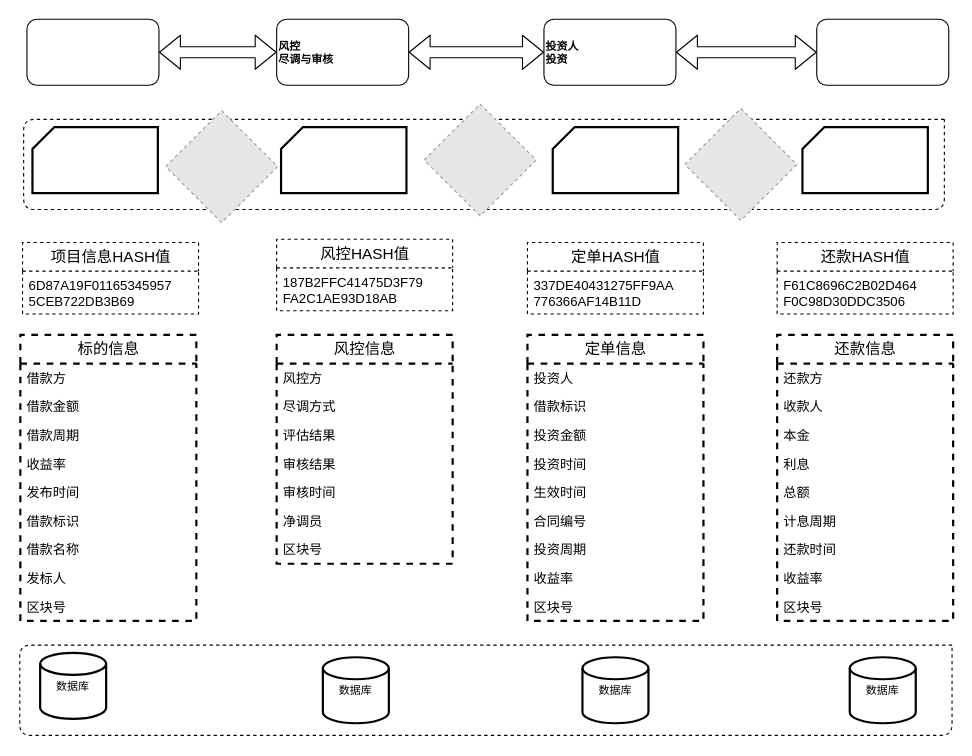
Some shapes in this 972 by 756 pixel diagram are drawn without their labels. Grey dashed boxes stand in for pictures. The centre of each missing label's shape, as x and y in pixels:
"借款方 付息还本" belongs at point (882, 51).
"借款方 发布借款信息" belongs at point (92, 51).
